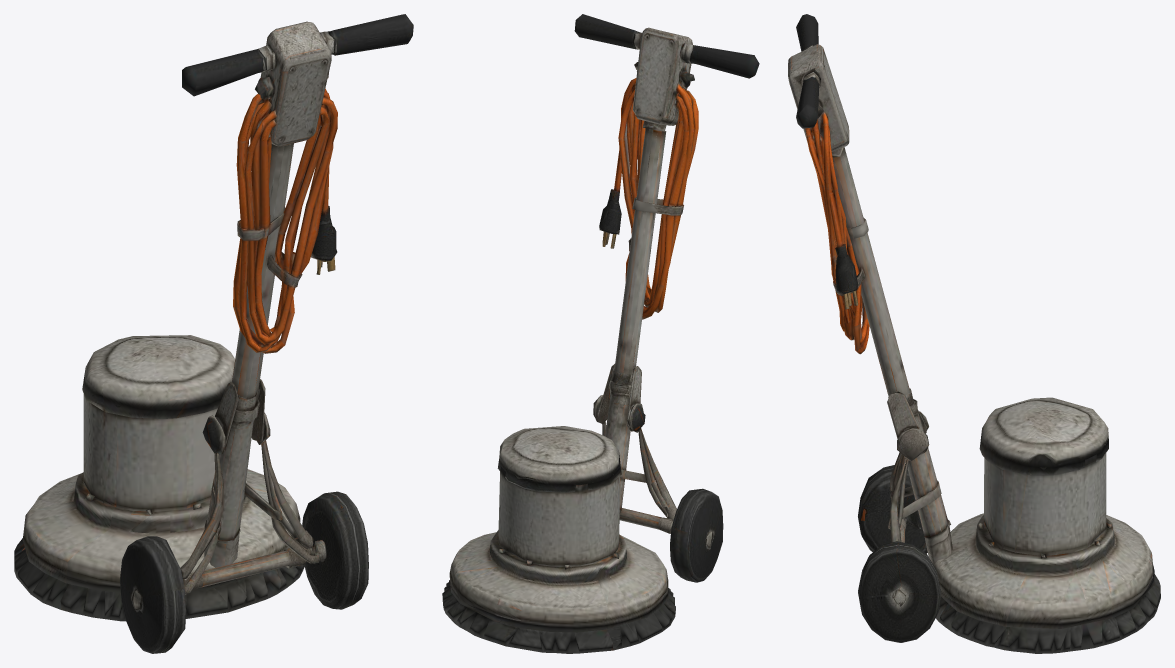
Rendered from p7-floor-buffer-t25.glb.
3 views of the same model, side by side, from view 1: azimuth 30°, elevation 25°; view 2: azimuth 150°, elevation 25°; view 3: azimuth 270°, elevation 25° (orthographic). The views are drawn at different scales.
Visible parts, largest first — view 1: p7-floor-buffer-t25; view 2: p7-floor-buffer-t25; view 3: p7-floor-buffer-t25.
Boxes of the visible parts, x1,y1,x2,y2 form: p7-floor-buffer-t25: (14,14,413,653); p7-floor-buffer-t25: (442,14,759,653); p7-floor-buffer-t25: (788,14,1160,653).
Size of the model in its own units: 0.5 by 1.15 by 0.707.
Materials: 1 (1 with a texture image).
